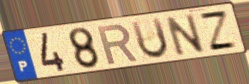4: (40, 31, 67, 74)
8: (68, 26, 101, 70)
N: (163, 12, 207, 58)
R: (95, 23, 140, 67)
U: (129, 16, 171, 61)
Z: (197, 10, 240, 53)
